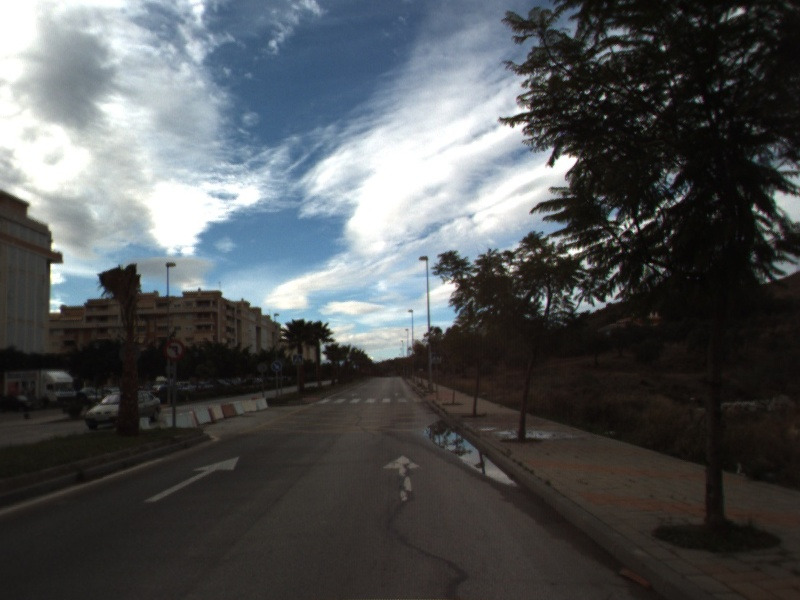STRAIGHT: (142, 455, 241, 504), (381, 453, 425, 503)
